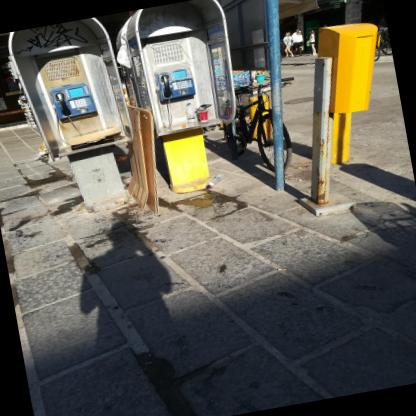Paper: (127, 108, 148, 209), (69, 125, 122, 145), (278, 268, 286, 270)
Plastic: (117, 44, 130, 68), (206, 173, 225, 187), (185, 103, 196, 122), (197, 109, 208, 121), (195, 103, 212, 110), (181, 124, 185, 127), (207, 185, 210, 187), (187, 102, 190, 104)
